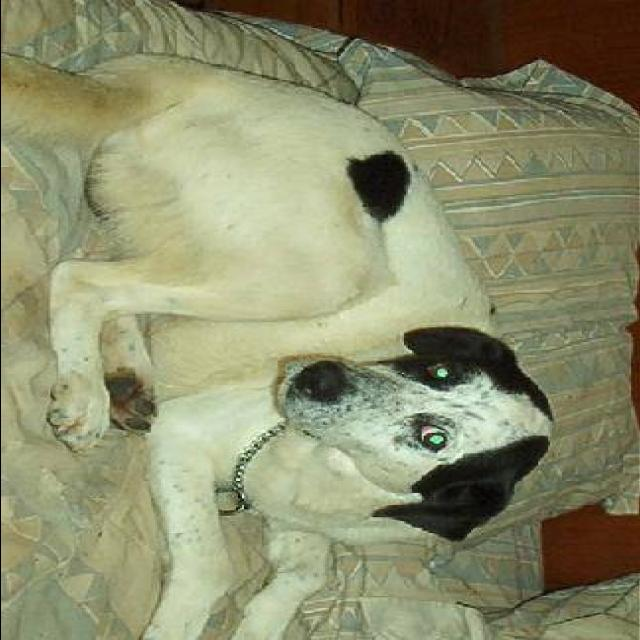dog: (0, 44, 571, 640)
